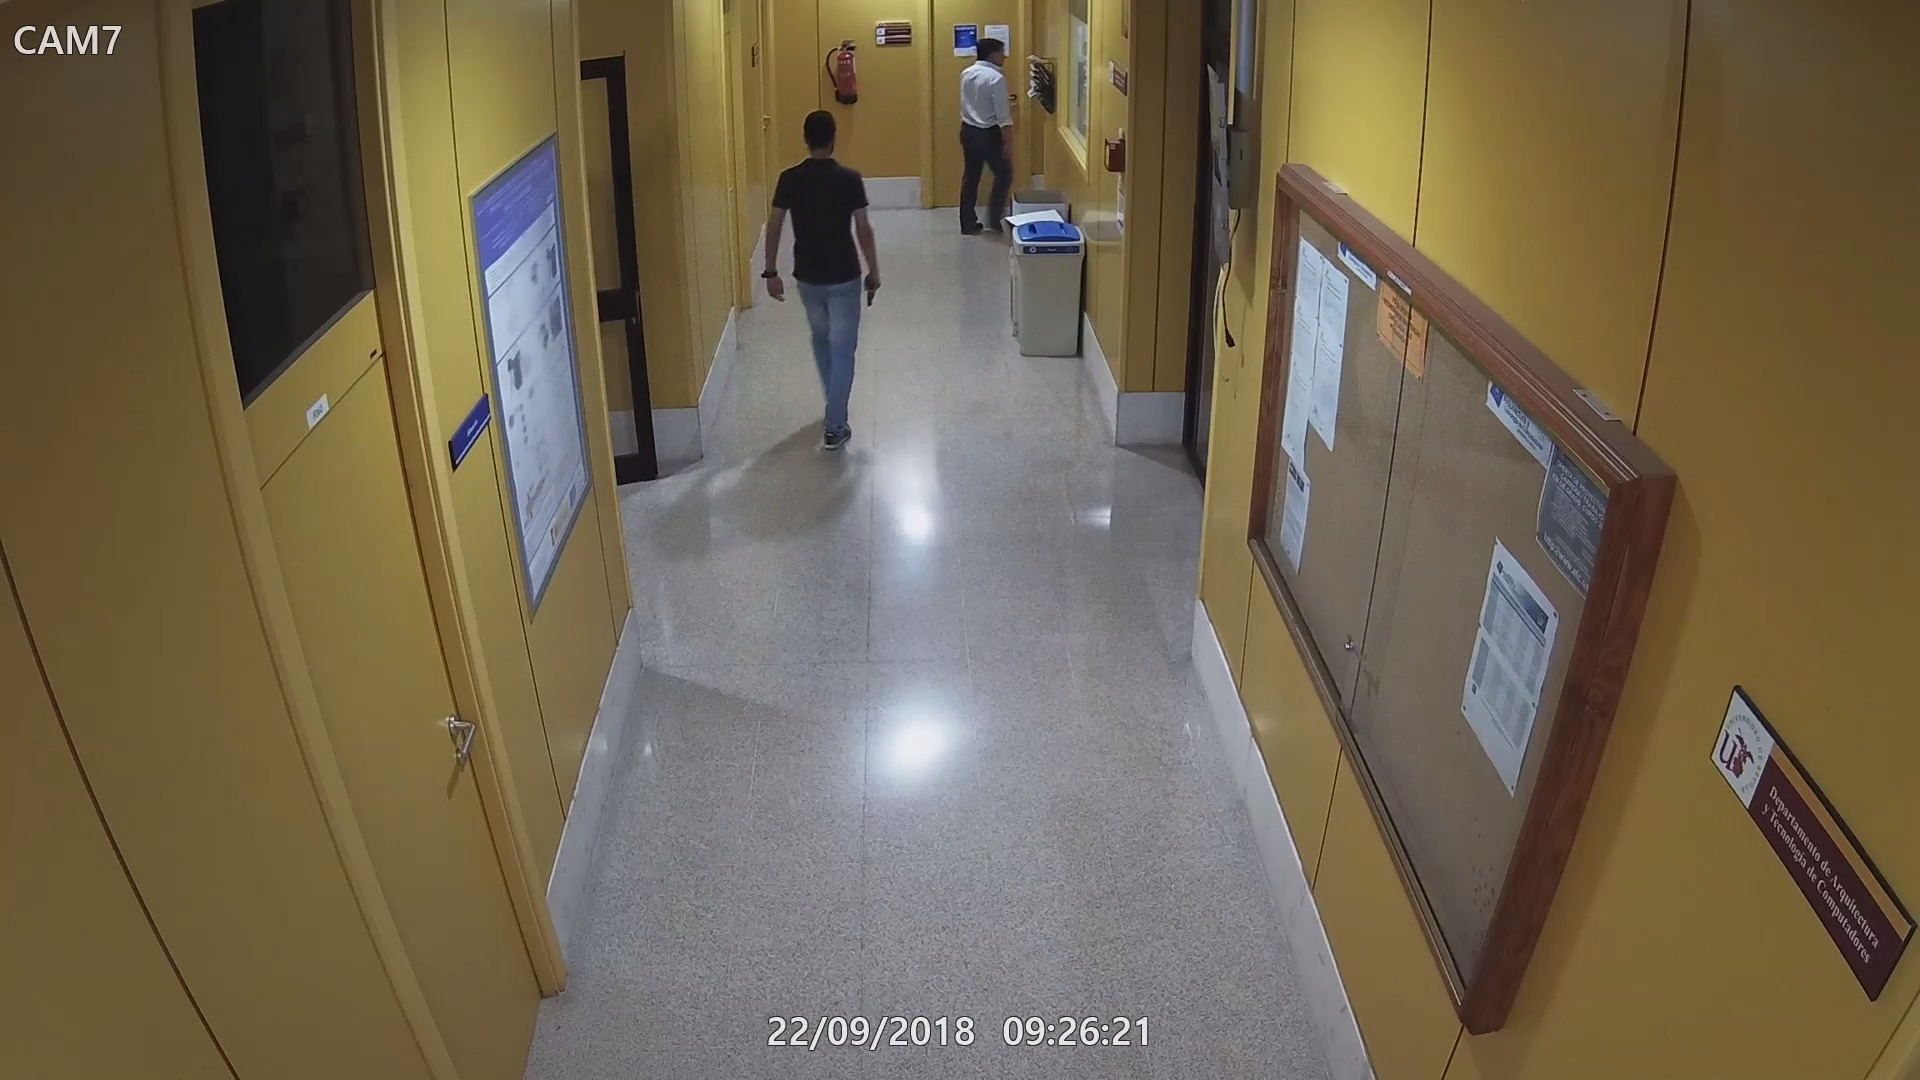Handgun: (860, 272, 886, 309)
